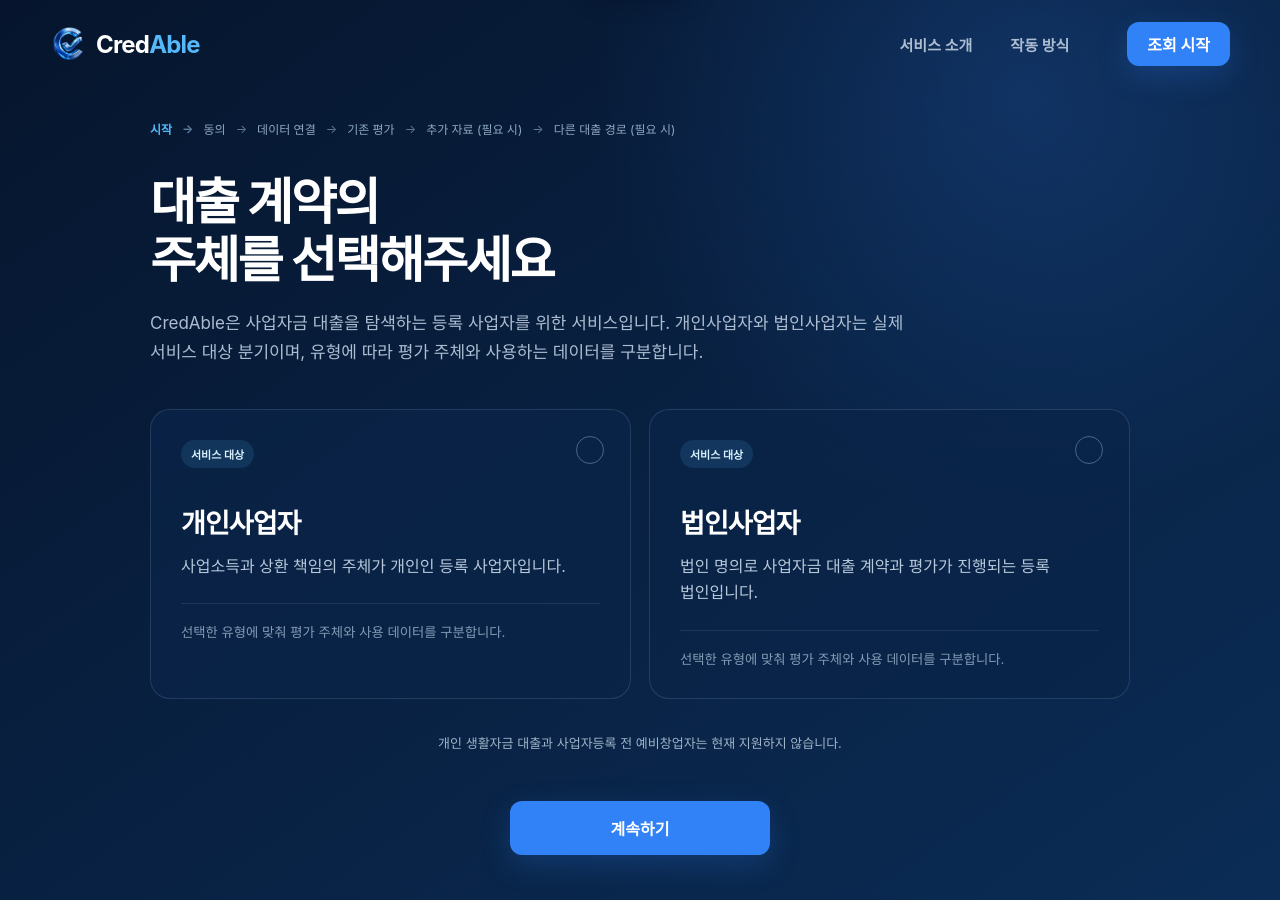
CustomerStartPage › requires a business borrower type before creating a session
Check: the radio button labelled "개인사업자" is shown, box [150,409,631,699]
Click the button "계속하기" at (640, 828), box [510,801,770,855]
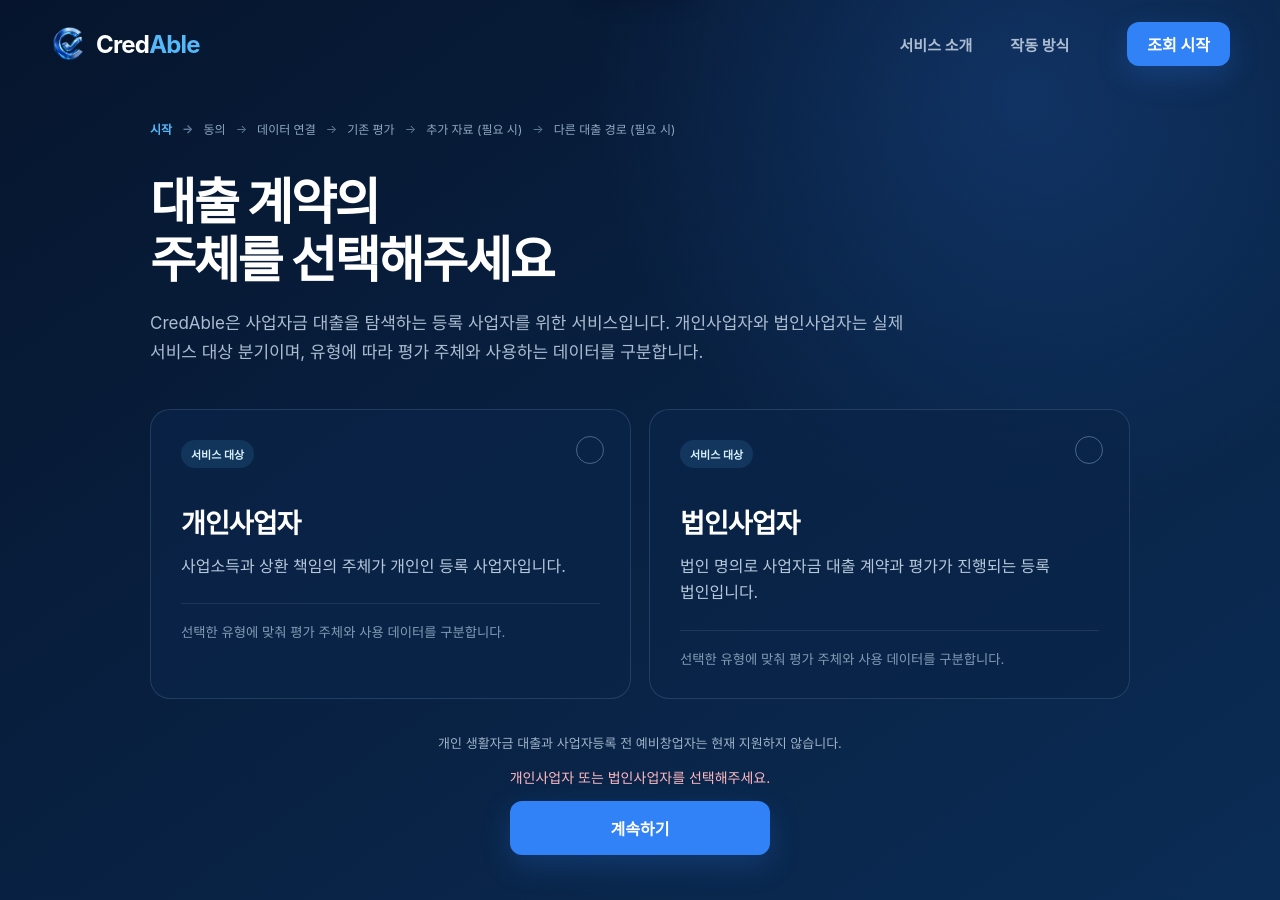
Check: the message reads "개인사업자 또는 법인사업자를 선택해주세요.", box [510,769,770,786]
